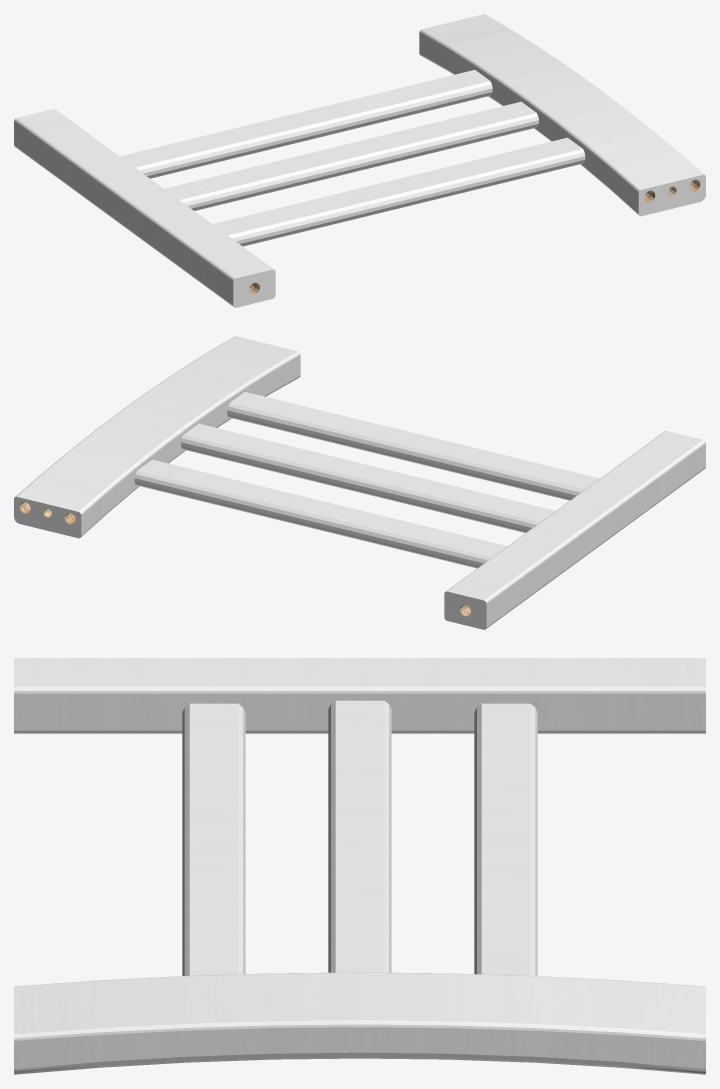
Rendered from Ikea_stefan_middle.obj.
3 renders of one model, top to bottom at view 1: azimuth 30°, elevation 25°; view 2: azimuth 150°, elevation 25°; view 3: azimuth 270°, elevation 25°, orthographic. The views are drawn at different scales.
Parts seen in each view (by area): view 1: Ikea_Stefan_Middle; view 2: Ikea_Stefan_Middle; view 3: Ikea_Stefan_Middle.
Boxes of the visible parts, left/top/right/bottom form: Ikea_Stefan_Middle: left=14, top=14, right=705, bottom=307; Ikea_Stefan_Middle: left=14, top=336, right=705, bottom=629; Ikea_Stefan_Middle: left=14, top=658, right=705, bottom=1074.
Size of the model in its own units: 0.3358 by 0.025 by 0.27.
